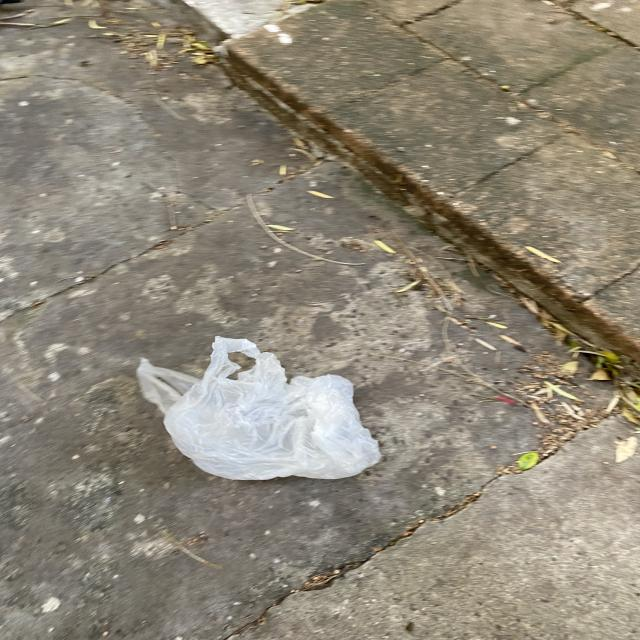bag: (138, 330, 390, 487)
